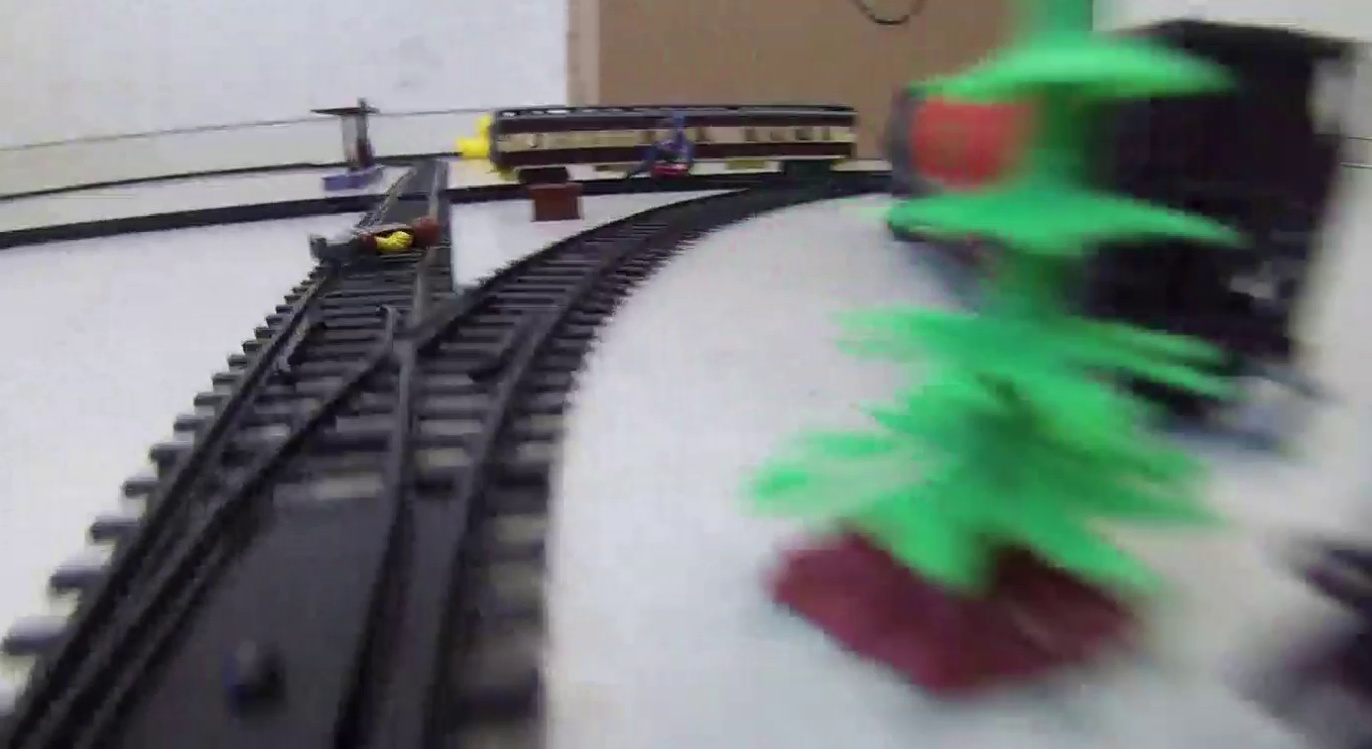box: (531, 181, 584, 221)
people: (308, 214, 444, 264)
tree: (778, 3, 1206, 700)
